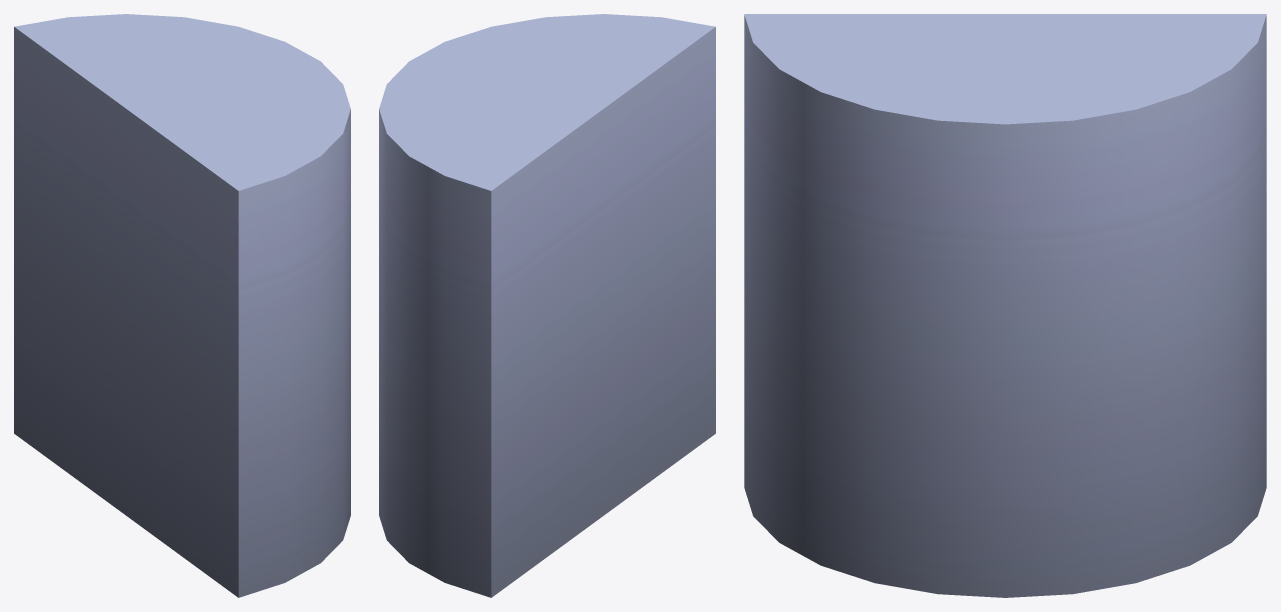
Rendered from kenney-prototype-shape-cylinder-half-detailed.glb.
3 views of the same model, side by side, from view 1: azimuth 30°, elevation 25°; view 2: azimuth 150°, elevation 25°; view 3: azimuth 270°, elevation 25° (orthographic). The views are drawn at different scales.
Visible parts, largest first — view 1: shape-cylinder-half-detailed; view 2: shape-cylinder-half-detailed; view 3: shape-cylinder-half-detailed.
Part boxes in pixels (<box>): shape-cylinder-half-detailed: <box>14,14,350,597</box>; shape-cylinder-half-detailed: <box>379,14,715,597</box>; shape-cylinder-half-detailed: <box>744,14,1266,597</box>.
Size of the model in its own units: 0.5001 by 1 by 1.
Materials: 1 (1 with a texture image).
